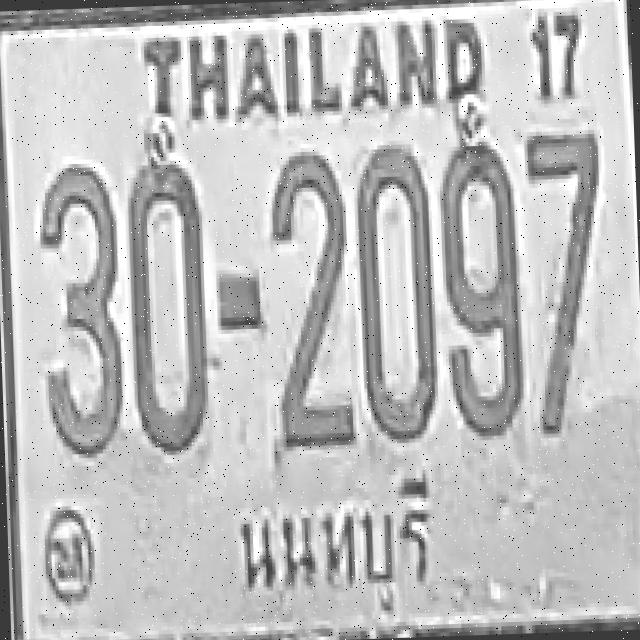0: (125, 147, 212, 456), (352, 142, 439, 442)
2: (267, 150, 352, 408), (266, 210, 354, 451)
3: (34, 162, 124, 459)
7: (523, 128, 607, 424), (524, 130, 606, 374), (524, 128, 604, 348)
9: (438, 138, 525, 438)
Nonthaburi: (224, 468, 452, 622)
